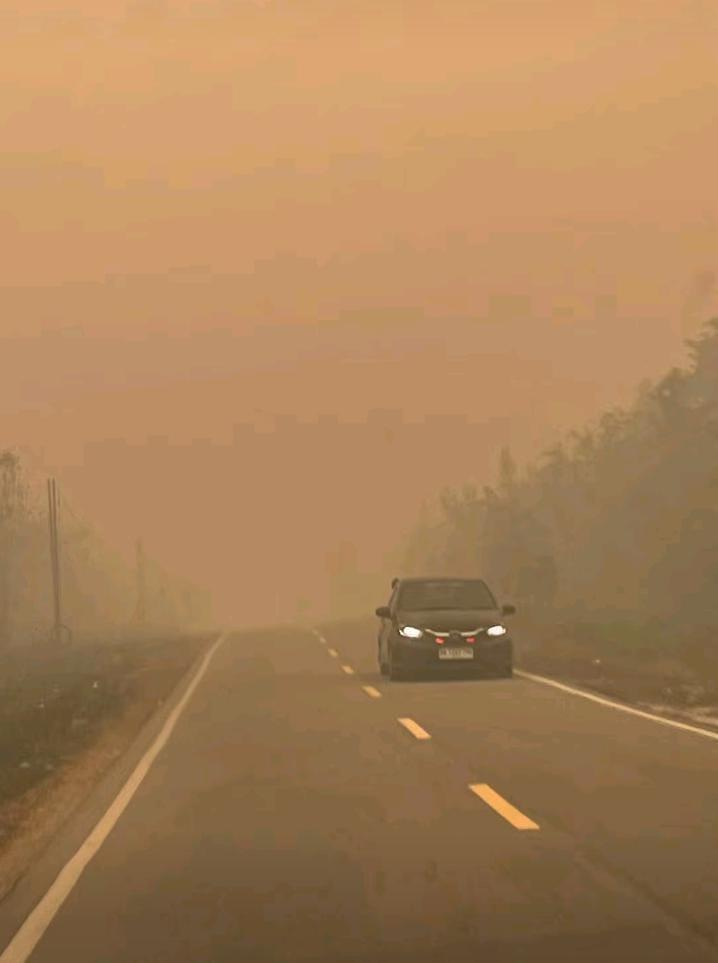Deteksi-Objek-Citra-Berasap: (0, 0, 718, 650)
Kendaraan: (375, 576, 517, 683)
Vegetasi: (514, 318, 718, 702), (0, 450, 169, 810)
